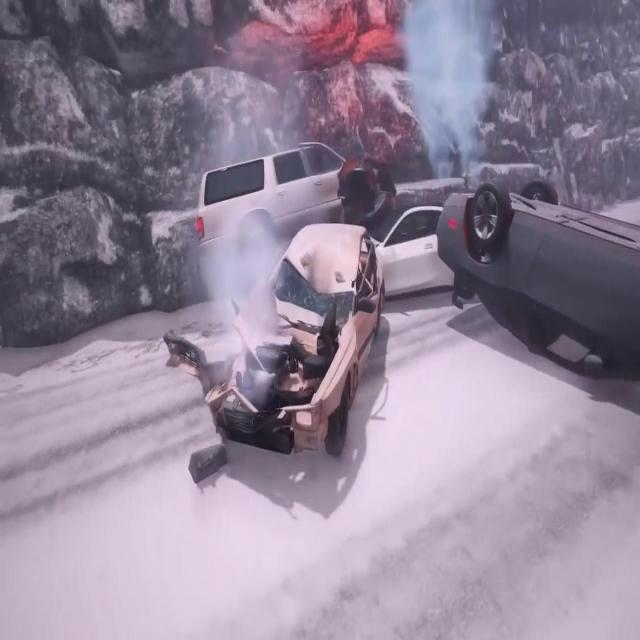accident: (433, 157, 640, 401), (191, 132, 477, 298), (202, 215, 388, 461)
